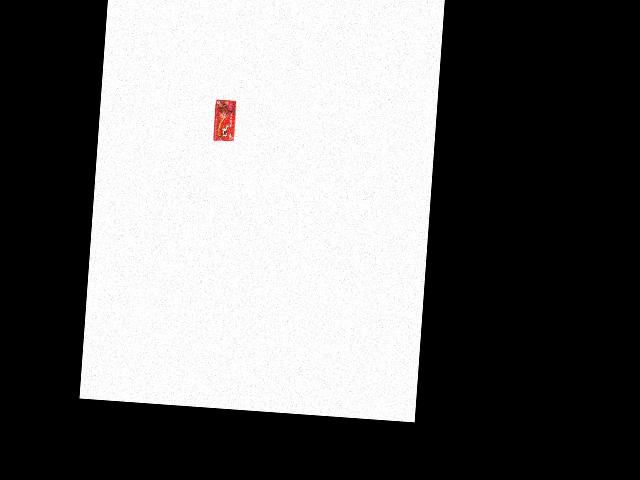chocolate: (210, 98, 236, 144)
